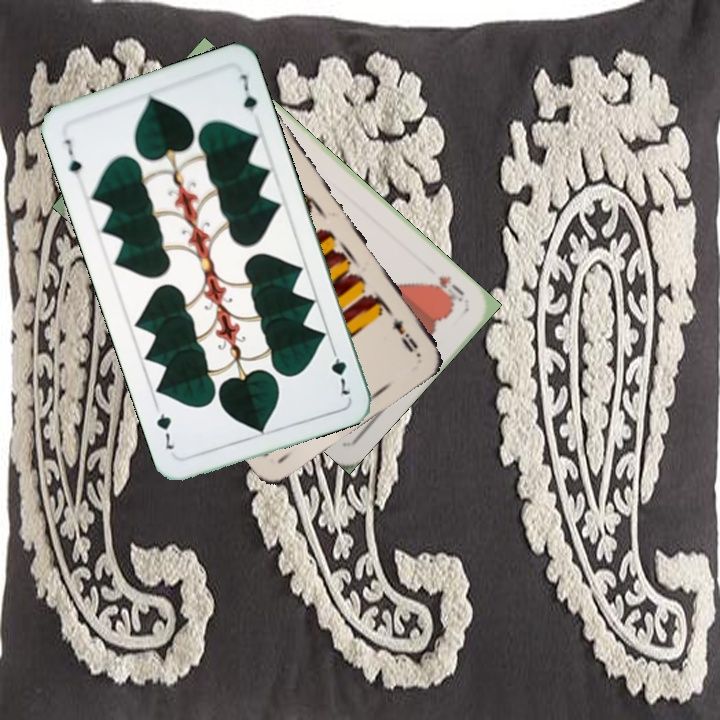E9: (388, 313, 421, 355)
G7: (327, 342, 353, 399), (60, 135, 86, 185)
HO: (427, 271, 467, 307)
